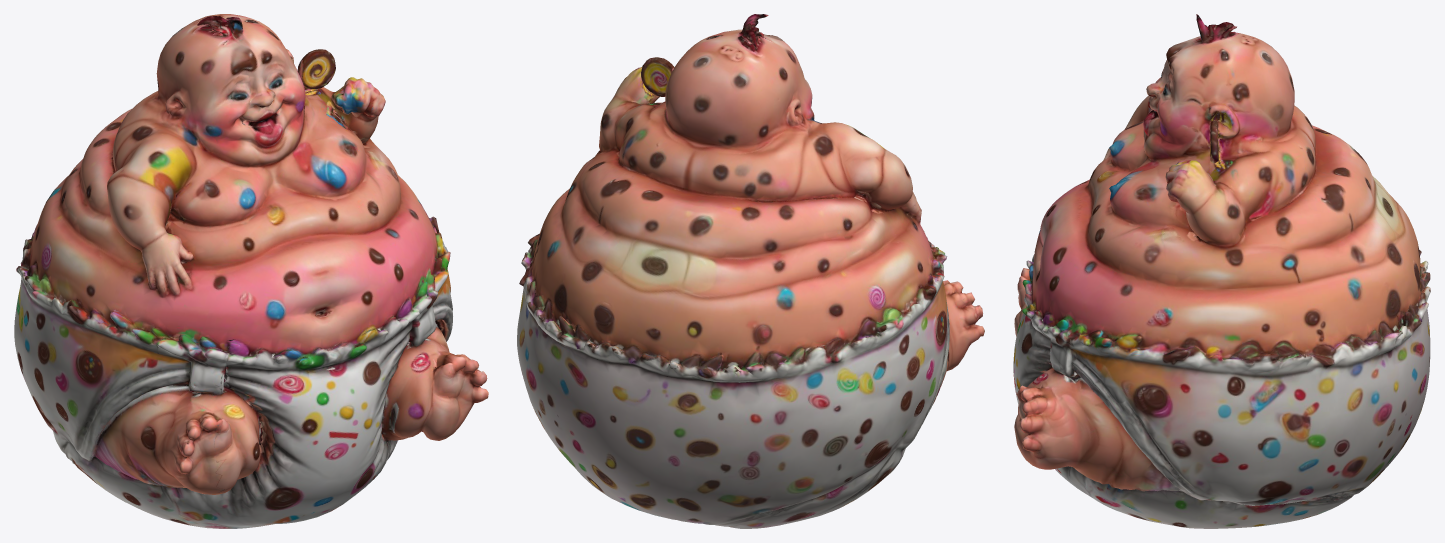
The model's file is candy-v10.glb.
3 views of the same model, side by side, from view 1: azimuth 30°, elevation 25°; view 2: azimuth 150°, elevation 25°; view 3: azimuth 270°, elevation 25° (orthographic).
Parts seen in each view (by area): view 1: Mesh1.0; view 2: Mesh1.0; view 3: Mesh1.0.
Part boxes in pixels (<box>): Mesh1.0: <box>14,14,488,528</box>; Mesh1.0: <box>517,14,984,528</box>; Mesh1.0: <box>1013,14,1430,528</box>.
Size of the model in its own units: 0.4889 by 0.6096 by 0.4786.
Materials: 1 (1 with a texture image).
